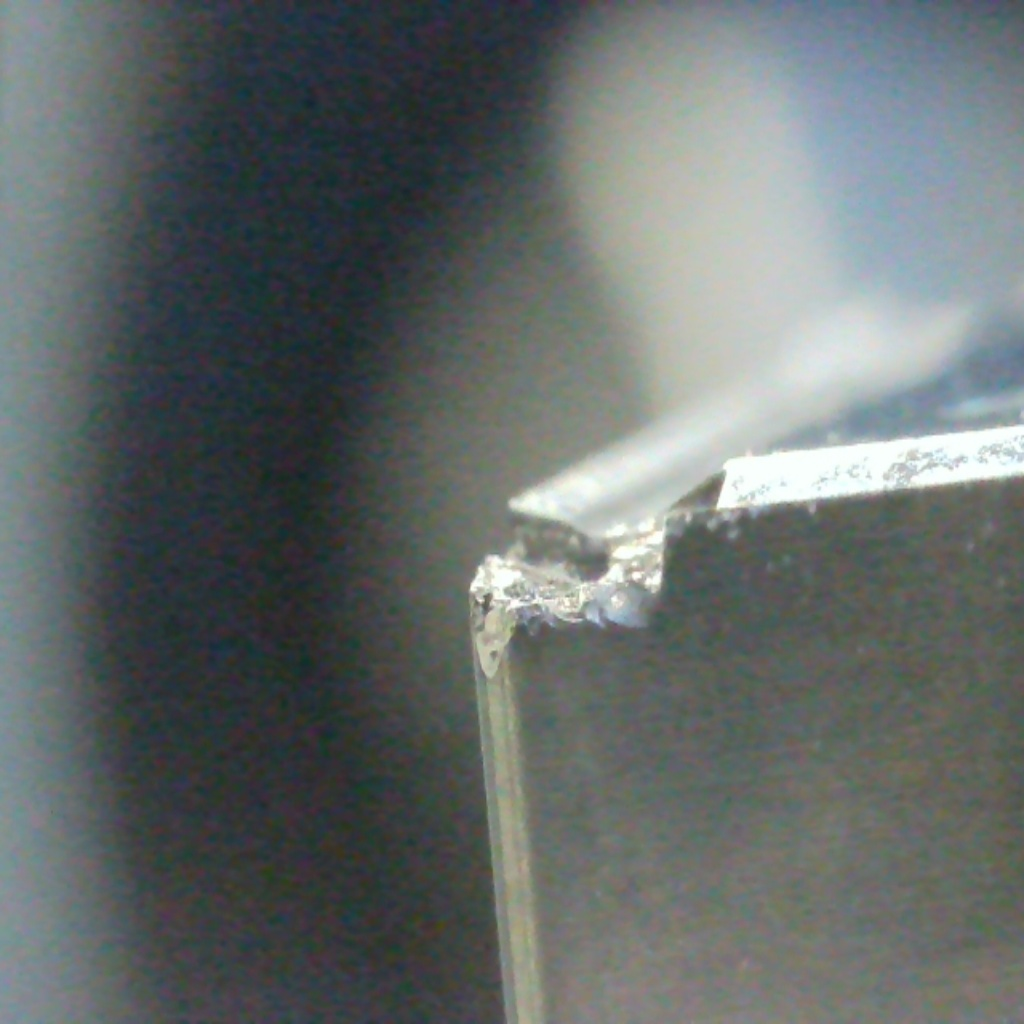flank_wear: (469, 564, 676, 680)
